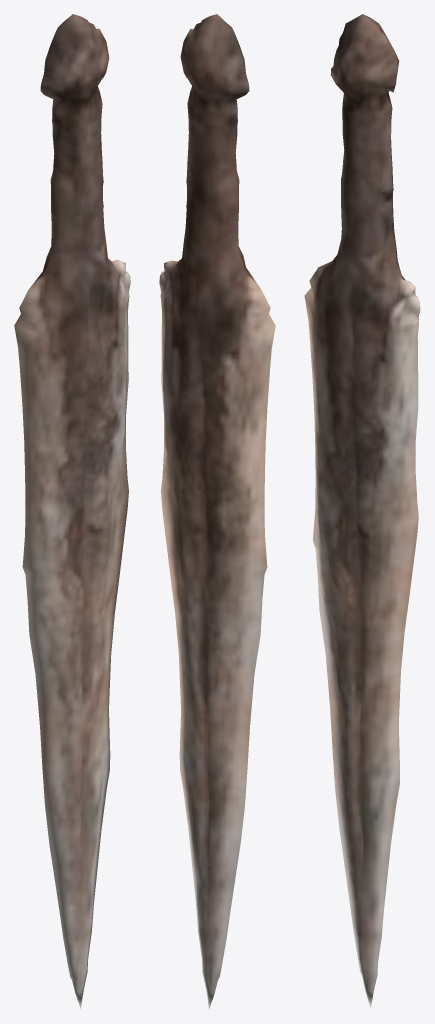
The model's file is weapon-wp_a_1550.glb.
3 views of the same model, side by side, from view 1: azimuth 30°, elevation 25°; view 2: azimuth 150°, elevation 25°; view 3: azimuth 330°, elevation 25° (orthographic).
Visible parts, largest first — view 1: wp_a_1550_mesh; view 2: wp_a_1550_mesh; view 3: wp_a_1550_mesh.
Part boxes in pixels (bbox=[...]): wp_a_1550_mesh: bbox=[14, 14, 130, 1009]; wp_a_1550_mesh: bbox=[159, 14, 275, 1009]; wp_a_1550_mesh: bbox=[304, 14, 420, 1009].
Bounding box in the file's own units: 0.0629 × 0.5149 × 0.0316.
Materials: 1 (1 with a texture image).
